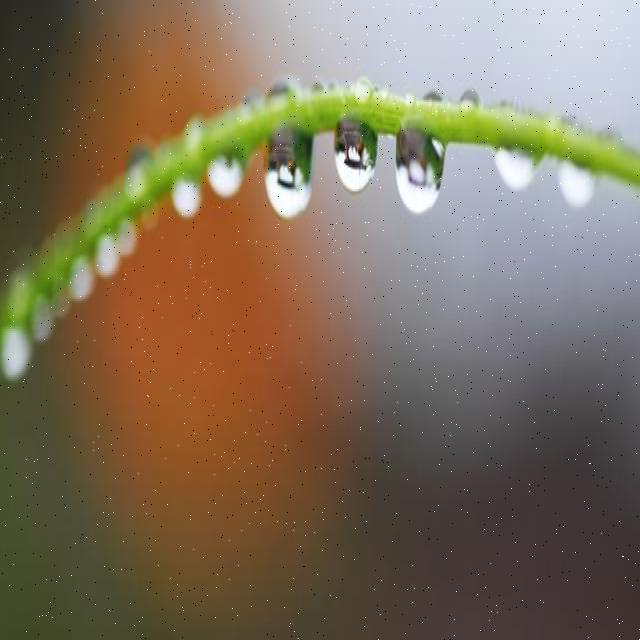raindrop: (382, 93, 458, 254), (251, 106, 324, 260), (326, 88, 384, 233)
